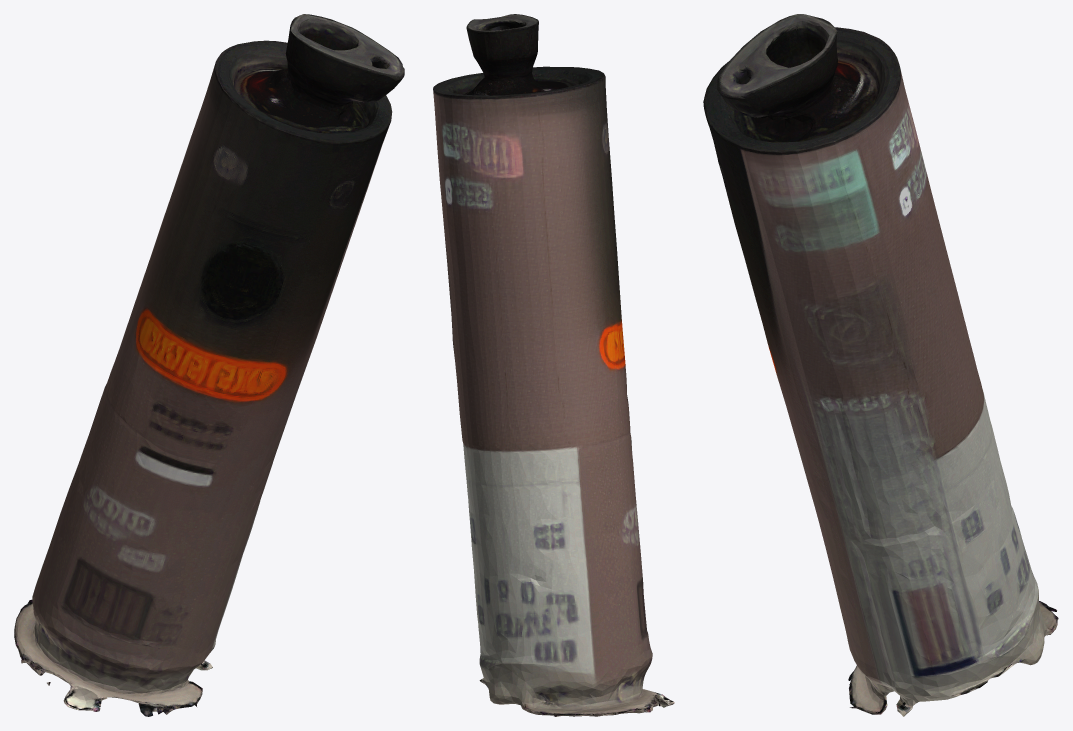
File: trellis_recon.glb
3 views of the same model, side by side, from view 1: azimuth 30°, elevation 25°; view 2: azimuth 150°, elevation 25°; view 3: azimuth 270°, elevation 25° (orthographic). The views are drawn at different scales.
Visible parts, largest first — view 1: refined.obj; view 2: refined.obj; view 3: refined.obj.
Boxes of the visible parts, box(x1,y1,x2,y2) form: refined.obj: box(14, 14, 404, 716); refined.obj: box(433, 14, 674, 716); refined.obj: box(703, 14, 1058, 716).
Size of the model in its own units: 0.0527 by 0.1168 by 0.0513.
Materials: 1 (1 with a texture image).
